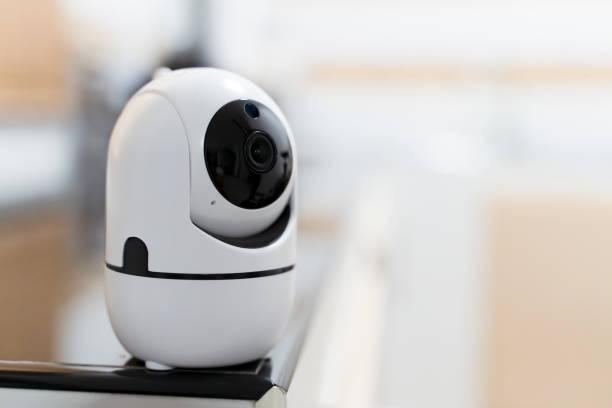camera: (88, 47, 333, 374)
